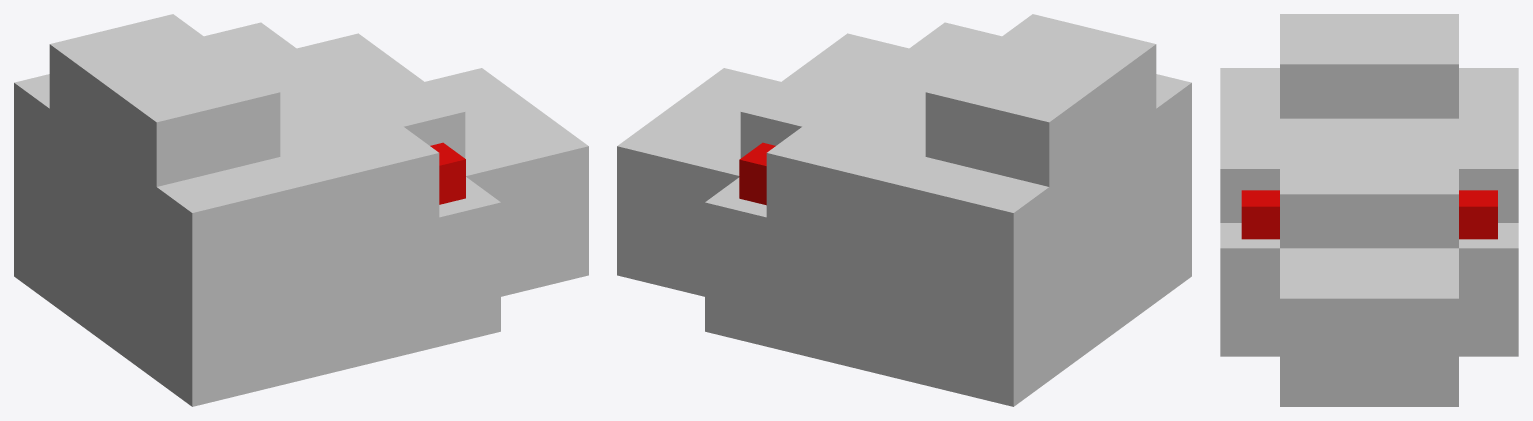
The model's file is snake_headpiece.glb.
3 renders of one model, left to right at view 1: azimuth 30°, elevation 25°; view 2: azimuth 150°, elevation 25°; view 3: azimuth 270°, elevation 25°, orthographic. The views are drawn at different scales.
Visible parts, largest first — view 1: snake_head-col; view 2: snake_head-col; view 3: snake_head-col.
Part boxes in pixels (<box>): snake_head-col: <box>14,14,588,406</box>; snake_head-col: <box>617,14,1191,406</box>; snake_head-col: <box>1220,14,1518,406</box>.
Size of the model in its own units: 7 by 4 by 5.
